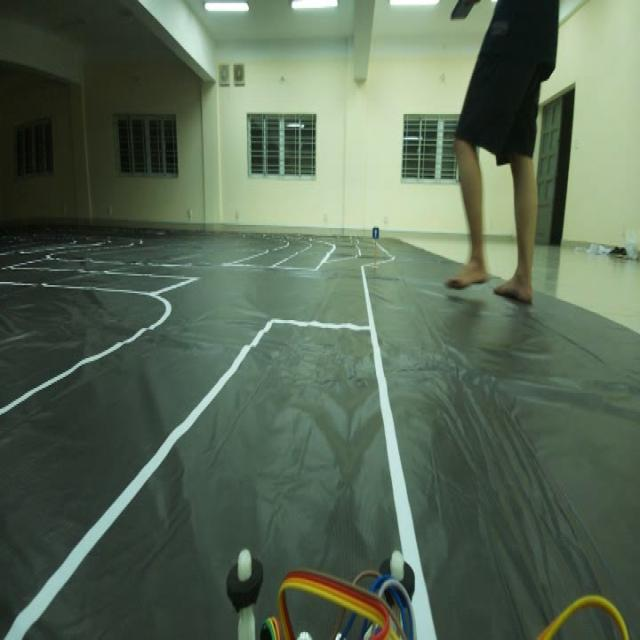onewayroad: (370, 221, 381, 243)
